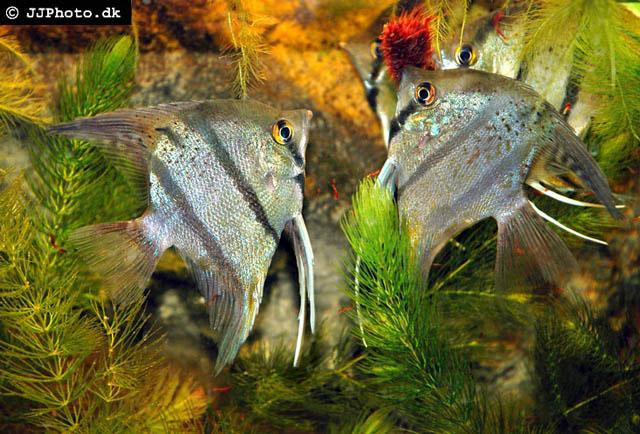Mulut: (379, 48, 435, 94), (285, 90, 329, 144)
Sirip Anal: (182, 255, 270, 386), (398, 212, 472, 354)
Sirip Ekor: (55, 207, 182, 335), (484, 202, 596, 313)
Sirip Perut: (345, 151, 399, 393), (284, 204, 330, 380)
Sirip Punggung: (36, 96, 212, 192), (527, 78, 631, 232)
